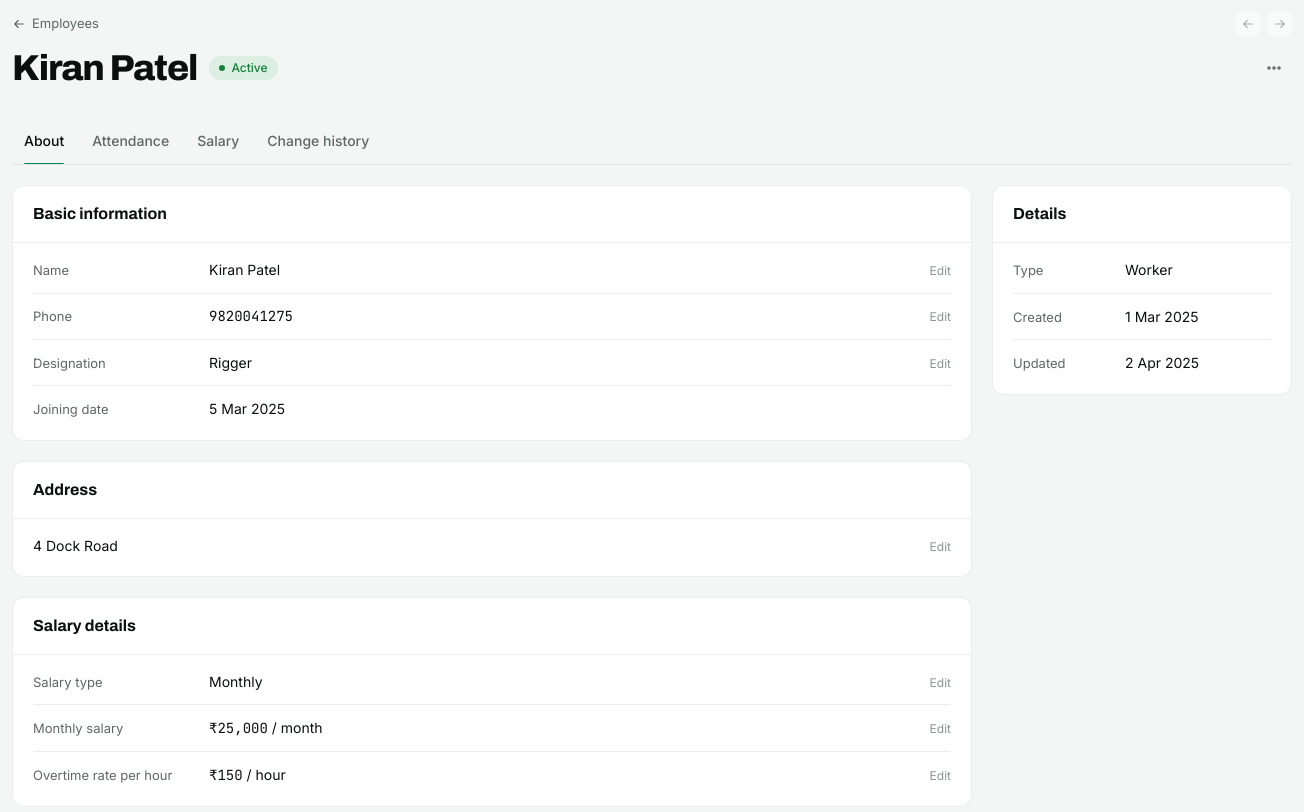
Test case: EmployeeDetailPage › shows the attendance calendar on the Attendance tab
Click the tab "Attendance". click: (131, 141)
box: [80,118,181,164]
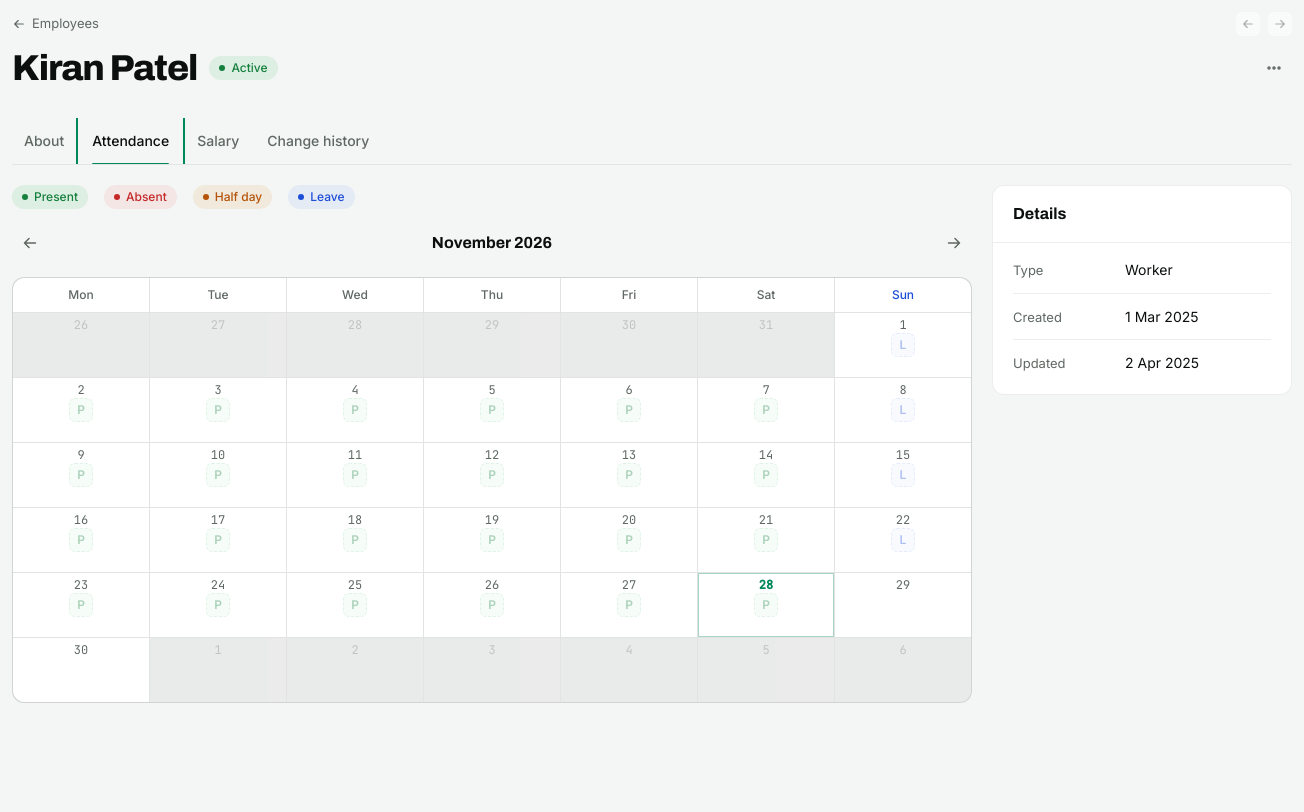
expect the button named "Previous month" is shown: met, box [12,225,48,261]
expect the text "Present" is shown: met, box [12,185,88,209]
